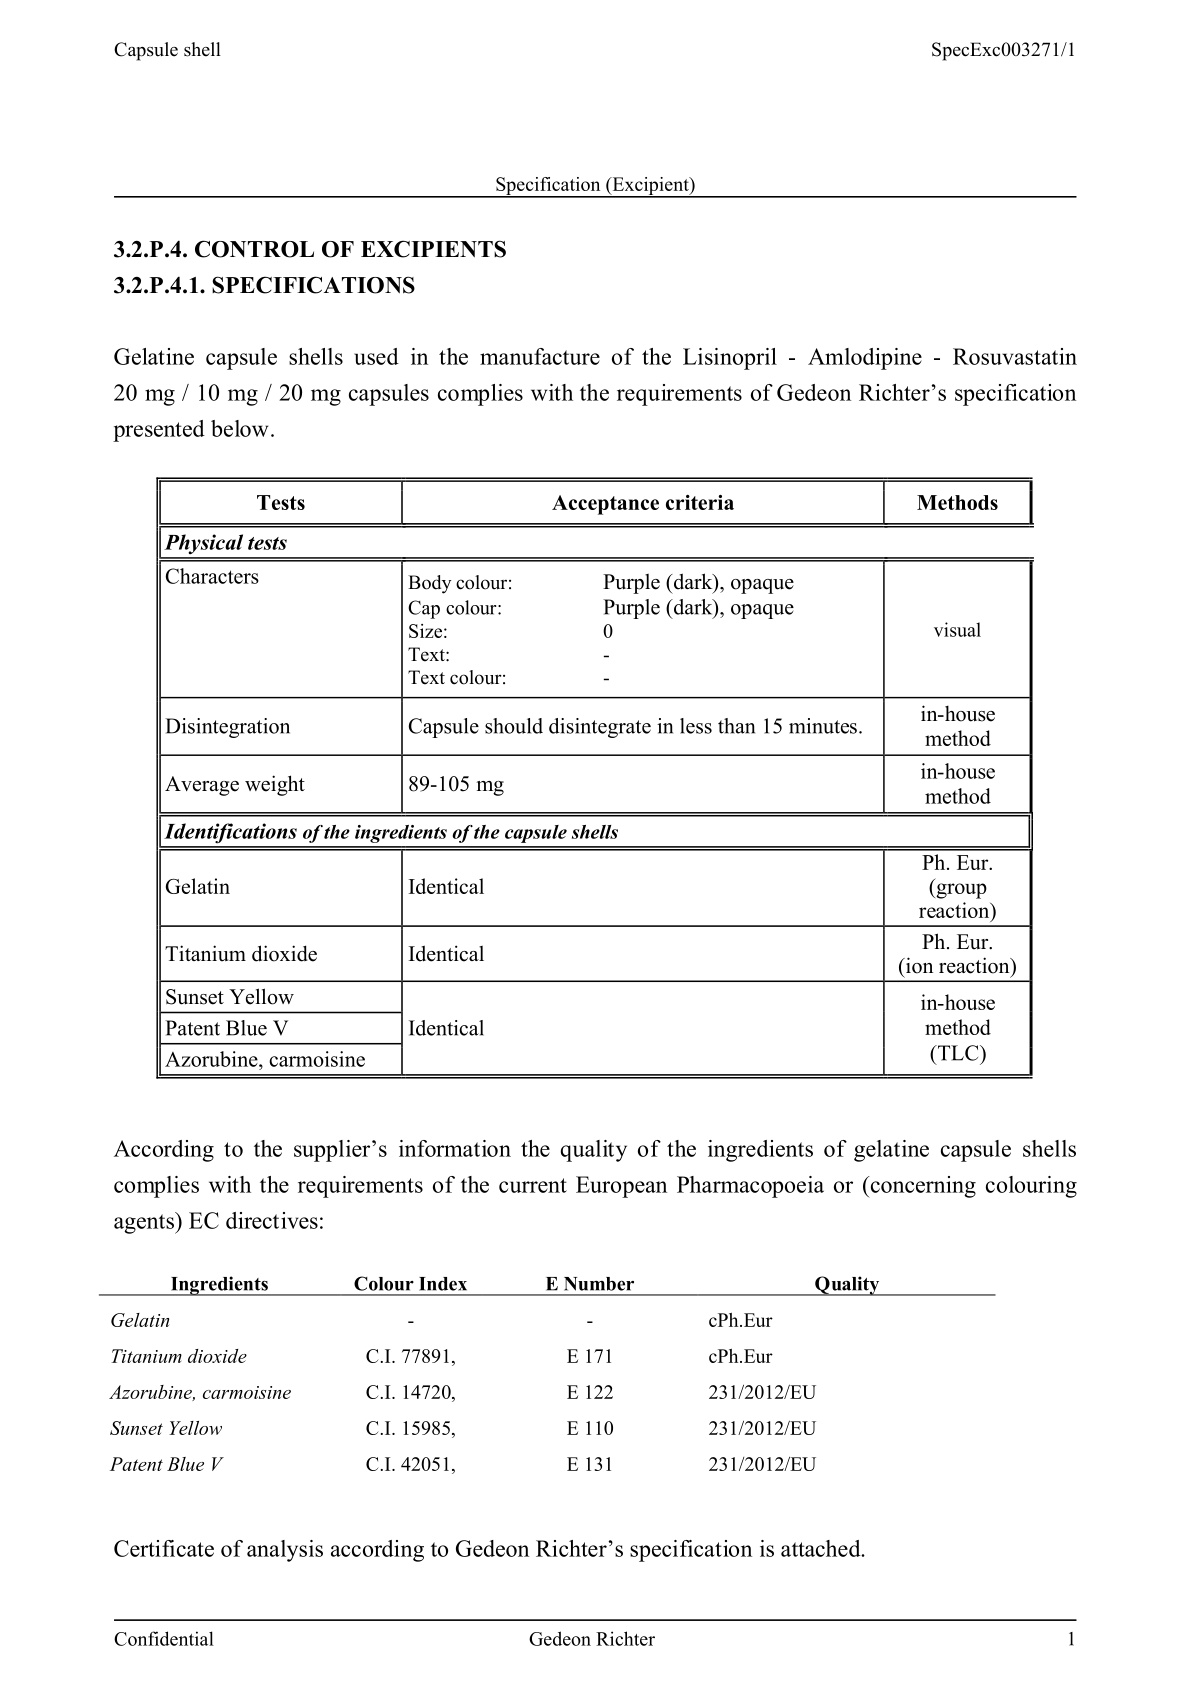merged_cells: (153, 475, 1034, 1078)
partial_lined: (95, 1270, 996, 1477)
